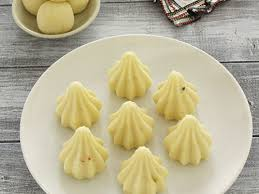modak: (151, 69, 206, 123), (120, 146, 180, 194), (106, 100, 160, 152), (55, 78, 108, 130), (104, 47, 155, 98), (167, 116, 216, 162), (56, 125, 107, 169)
